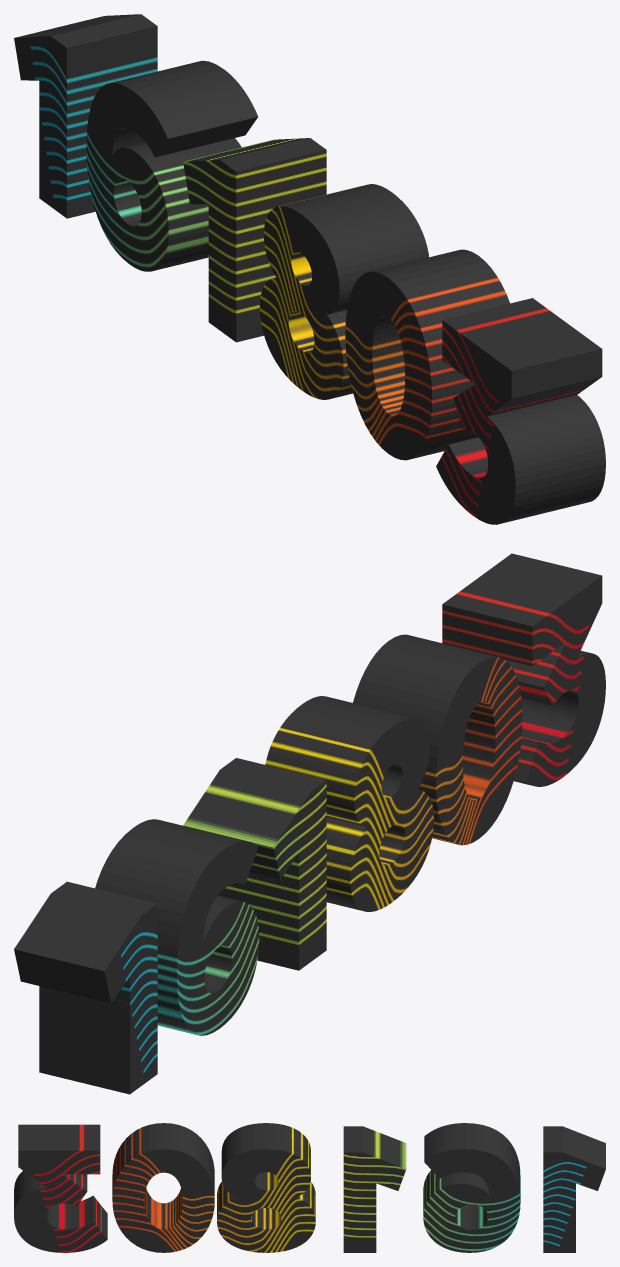
Rendered from numbers_mesh.gltf.
The picture shows the model from 3 angles, top to bottom: view 1: azimuth 30°, elevation 25°; view 2: azimuth 150°, elevation 25°; view 3: azimuth 270°, elevation 25°; orthographic projection. The views are drawn at different scales.
Visible parts, largest first — view 1: number_mesh_06, number_mesh_02, number_mesh_05, number_mesh_04, number_mesh_03, number_mesh_01; view 2: number_mesh_01, number_mesh_04, number_mesh_06, number_mesh_02, number_mesh_05, number_mesh_03; view 3: number_mesh_04, number_mesh_02, number_mesh_05, number_mesh_06, number_mesh_03, number_mesh_01.
Part boxes in pixels (box(x1,y1,x2,y2)): number_mesh_06: box(436, 298, 605, 524); number_mesh_02: box(86, 60, 258, 271); number_mesh_05: box(345, 249, 509, 460); number_mesh_04: box(259, 184, 428, 399); number_mesh_03: box(183, 138, 326, 342); number_mesh_01: box(14, 14, 157, 218); number_mesh_01: box(14, 881, 157, 1094); number_mesh_04: box(265, 696, 433, 911); number_mesh_06: box(442, 553, 605, 786); number_mesh_02: box(95, 819, 259, 1035); number_mesh_05: box(353, 634, 522, 845); number_mesh_03: box(183, 758, 326, 970); number_mesh_04: box(217, 1123, 315, 1252); number_mesh_02: box(423, 1123, 520, 1252); number_mesh_05: box(112, 1123, 214, 1252); number_mesh_06: box(14, 1124, 107, 1252); number_mesh_03: box(343, 1126, 406, 1252); number_mesh_01: box(543, 1126, 605, 1252).
Bounding box in the file's own units: 1.8 × 3.35 × 17.28.
1 material, 1 textured.
